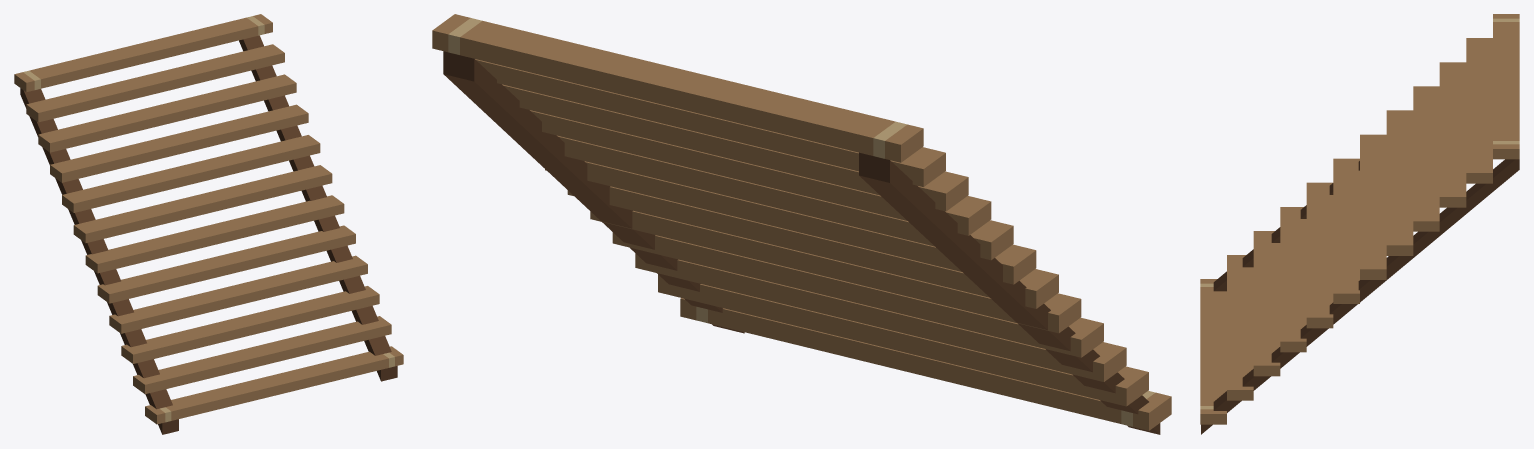
The model's file is stairs_lod1.glb.
3 renders of one model, left to right at view 1: azimuth 30°, elevation 25°; view 2: azimuth 150°, elevation 25°; view 3: azimuth 270°, elevation 25°, orthographic. The views are drawn at different scales.
Parts seen in each view (by area): view 1: stairs_mesh; view 2: stairs_mesh; view 3: stairs_mesh.
Boxes of the visible parts, x1,y1,x2,y2 form: stairs_mesh: (14, 14, 403, 434); stairs_mesh: (432, 14, 1171, 434); stairs_mesh: (1200, 14, 1519, 434).
Bounding box in the file's own units: 3 × 3 × 3.
